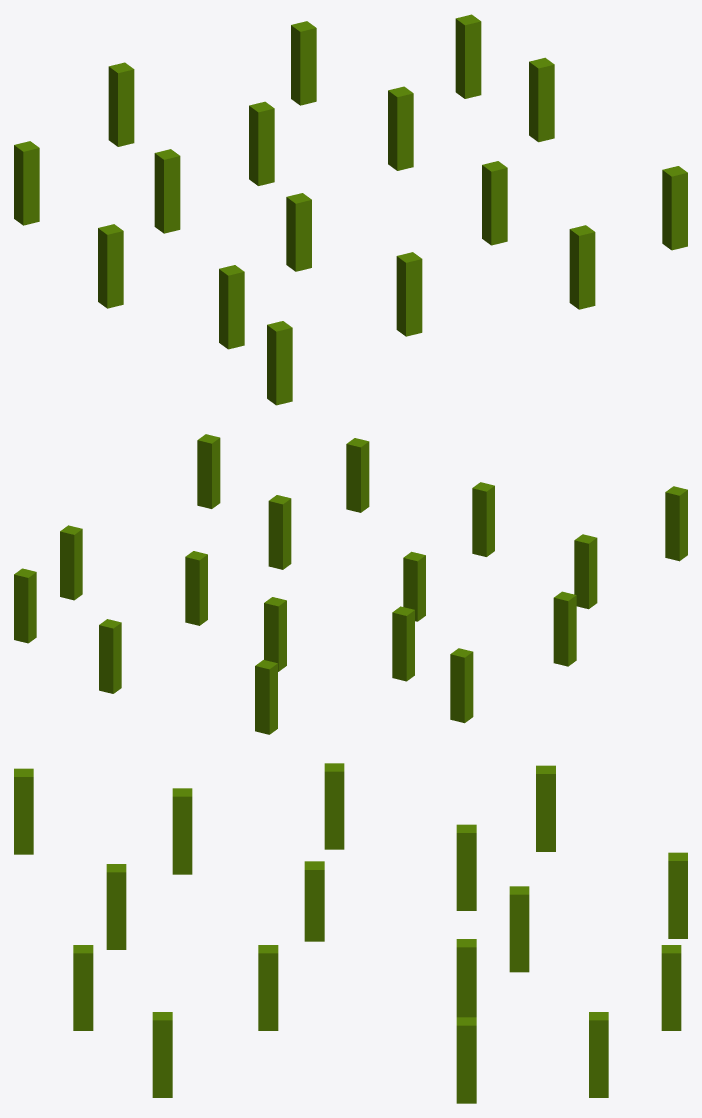
Rendered from Grass Strains.obj.
The picture shows the model from 3 angles, top to bottom: view 1: azimuth 30°, elevation 25°; view 2: azimuth 150°, elevation 25°; view 3: azimuth 270°, elevation 25°; orthographic projection. The views are drawn at different scales.
Bounding box in the file's own units: 9.4 × 1.4 × 10.2.
